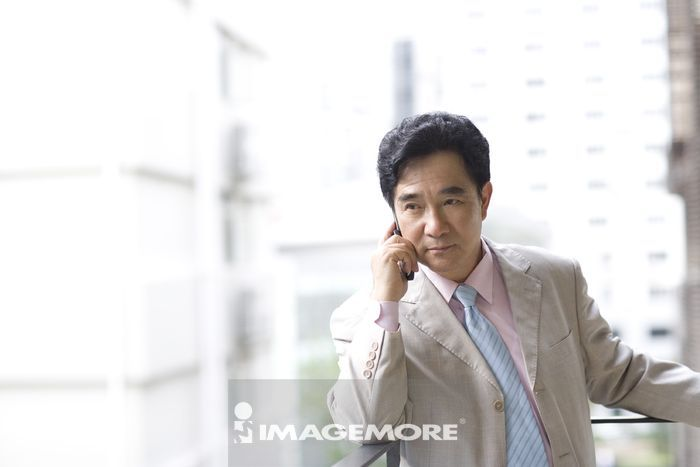phone: (389, 208, 416, 285)
talk: (369, 174, 473, 299)
